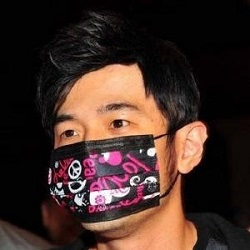mask: (37, 129, 169, 226)
